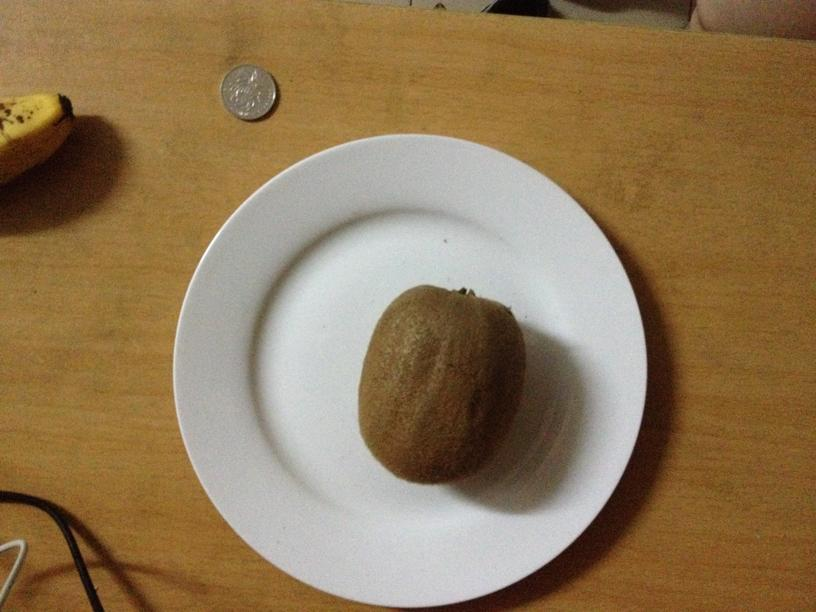coin: (217, 64, 279, 120)
qiwi: (363, 281, 519, 485)
